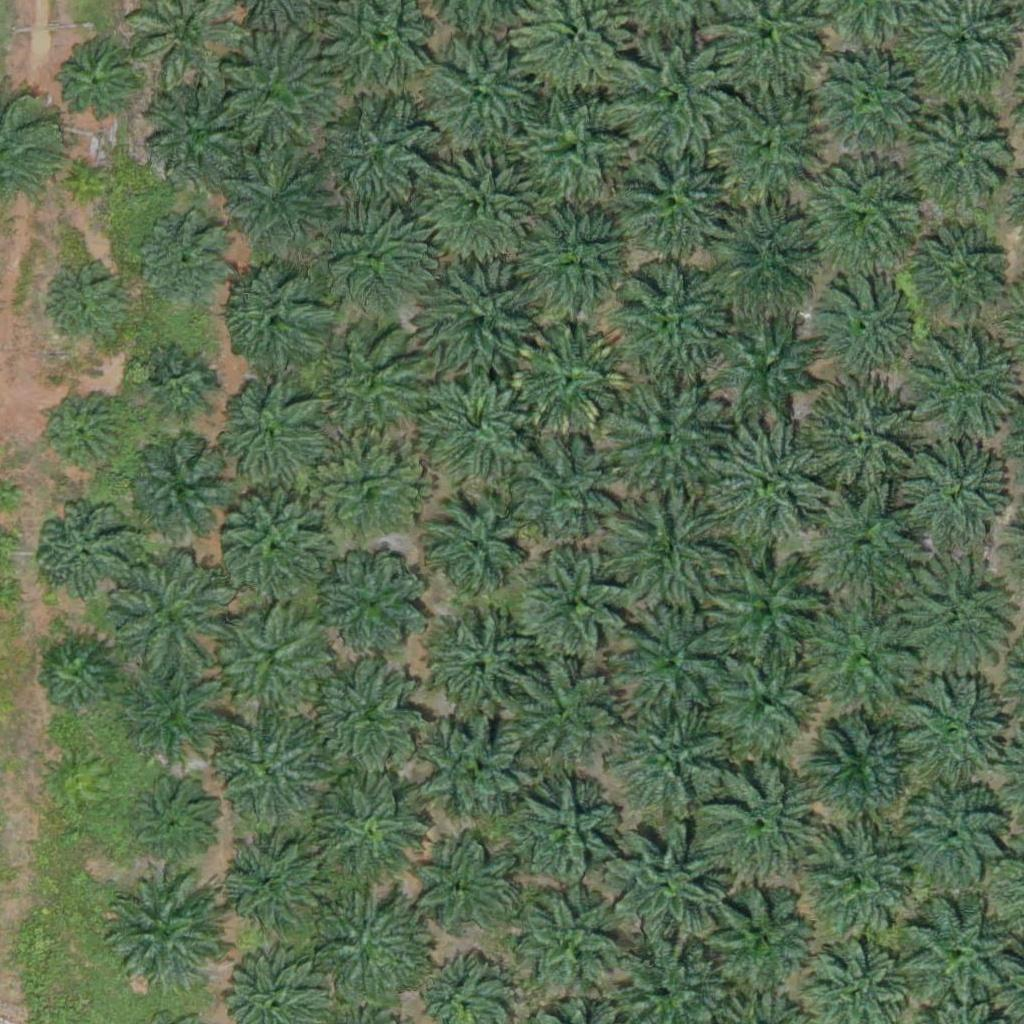Kelapa_Sawit: (807, 38, 932, 164), (795, 375, 920, 501), (803, 486, 928, 612), (699, 421, 824, 547), (703, 191, 828, 317), (699, 84, 824, 210), (611, 34, 736, 160), (607, 137, 732, 263), (607, 256, 732, 382), (605, 376, 730, 502), (595, 491, 720, 617), (216, 26, 341, 152), (105, 550, 230, 676), (98, 870, 223, 996), (508, 884, 633, 1010), (611, 599, 736, 725), (609, 693, 734, 819), (604, 828, 729, 954), (701, 538, 826, 664), (705, 637, 830, 763), (701, 758, 826, 884), (691, 871, 816, 997), (793, 593, 918, 719), (887, 675, 1012, 801), (890, 552, 1015, 678), (892, 895, 1017, 1021), (310, 885, 435, 1010), (519, 92, 632, 206), (519, 200, 632, 314), (805, 825, 918, 939), (902, 106, 1015, 219), (314, 326, 427, 439), (308, 432, 421, 545), (220, 493, 333, 606), (210, 377, 323, 490), (220, 261, 333, 374), (225, 143, 338, 256), (318, 543, 431, 656), (426, 613, 539, 726), (313, 658, 426, 771), (313, 771, 426, 884), (411, 709, 524, 822), (808, 713, 921, 826), (422, 152, 534, 266), (426, 41, 538, 155), (505, 660, 617, 774), (894, 436, 1006, 549), (910, 330, 1022, 443), (807, 165, 919, 278), (513, 322, 625, 435), (512, 438, 624, 551), (419, 491, 531, 604), (419, 367, 531, 480), (426, 265, 538, 378), (318, 99, 430, 212), (317, 200, 429, 313), (145, 82, 257, 195), (520, 547, 632, 660), (218, 609, 330, 722), (119, 660, 231, 773), (214, 716, 326, 829), (507, 773, 619, 886), (898, 783, 1010, 896), (910, 224, 1010, 325), (815, 274, 915, 375), (138, 211, 238, 312), (130, 442, 230, 543), (222, 837, 322, 938), (410, 837, 510, 938), (717, 315, 817, 415), (34, 505, 134, 605), (43, 263, 131, 351), (41, 391, 129, 479), (53, 39, 141, 127), (131, 774, 218, 862), (40, 639, 115, 715), (142, 346, 217, 421), (76, 162, 114, 200)
